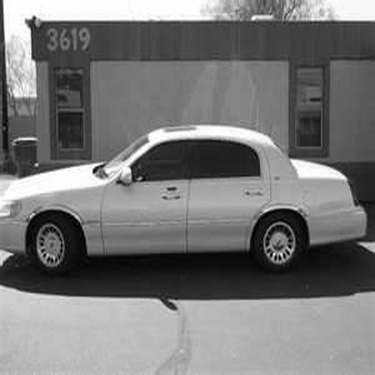car: (2, 120, 369, 272)
